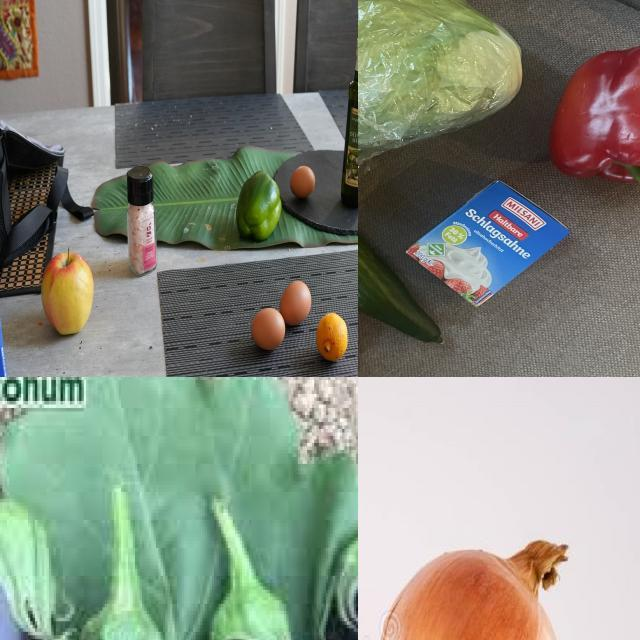bell_pepper: (551, 38, 640, 218), (235, 169, 288, 245)
cabbage: (359, 1, 533, 169)
cucumber: (359, 214, 478, 363)
egg: (281, 280, 311, 323), (254, 306, 283, 348), (288, 163, 318, 203)
eggplant: (196, 580, 310, 640)
onion: (377, 538, 570, 640)
